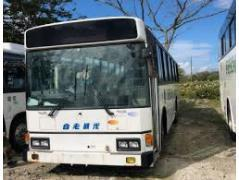bus: (19, 14, 180, 174)
